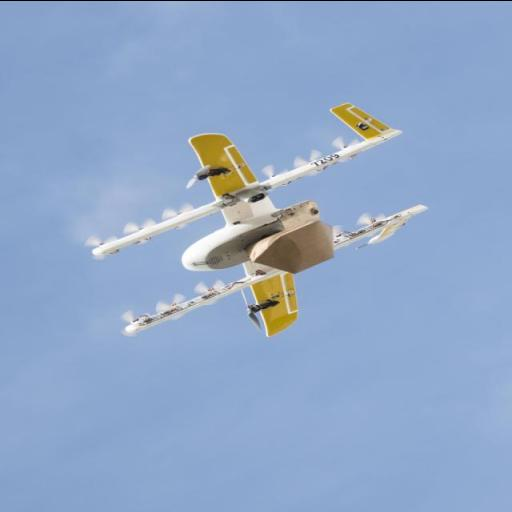uav: (82, 93, 428, 359)
